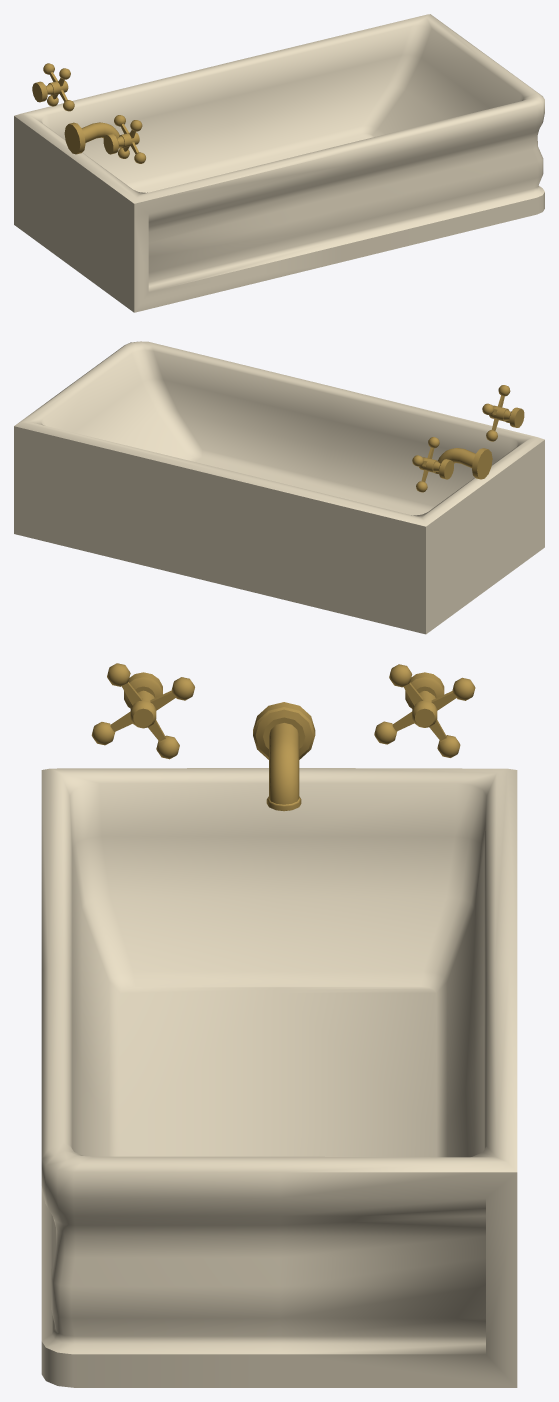
File: BathroomTub.fbx
The picture shows the model from 3 angles, top to bottom: view 1: azimuth 30°, elevation 25°; view 2: azimuth 150°, elevation 25°; view 3: azimuth 270°, elevation 25°; orthographic projection. The views are drawn at different scales.
Visible parts, largest first — view 1: TubUVd:polySurface98; view 2: TubUVd:polySurface98; view 3: TubUVd:polySurface98.
Boxes of the visible parts, x1,y1,x2,y2 form: TubUVd:polySurface98: (14, 14, 544, 312); TubUVd:polySurface98: (14, 341, 544, 634); TubUVd:polySurface98: (41, 663, 517, 1387).
Size of the model in its own units: 4 by 1.59 by 2.
